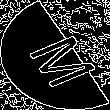M_NE: (13, 23, 97, 87)
